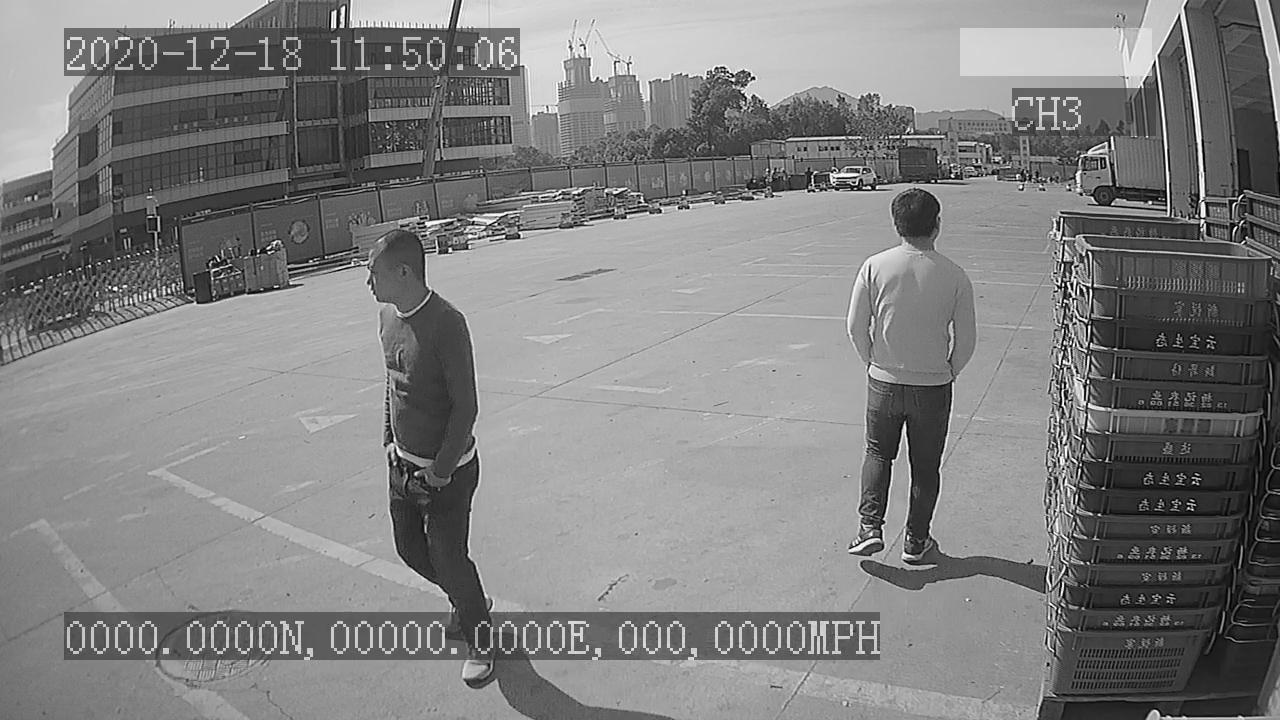person: (842, 186, 979, 567)
